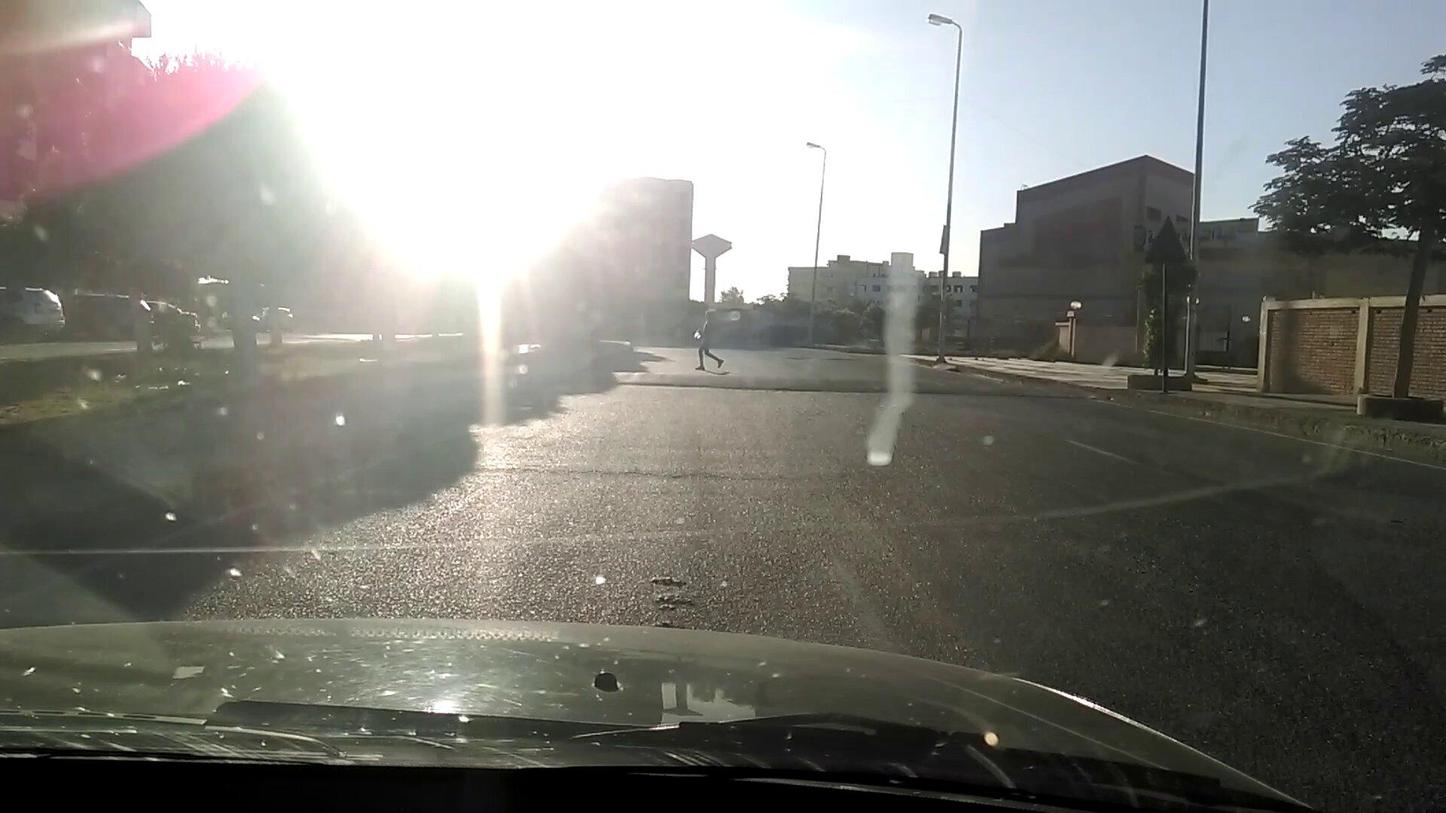Bump: (412, 368, 1020, 404)
